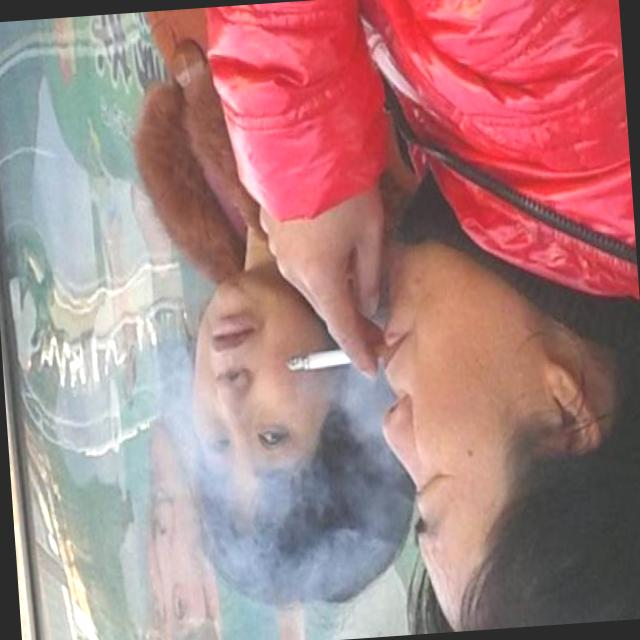cigarette: (284, 348, 350, 373)
